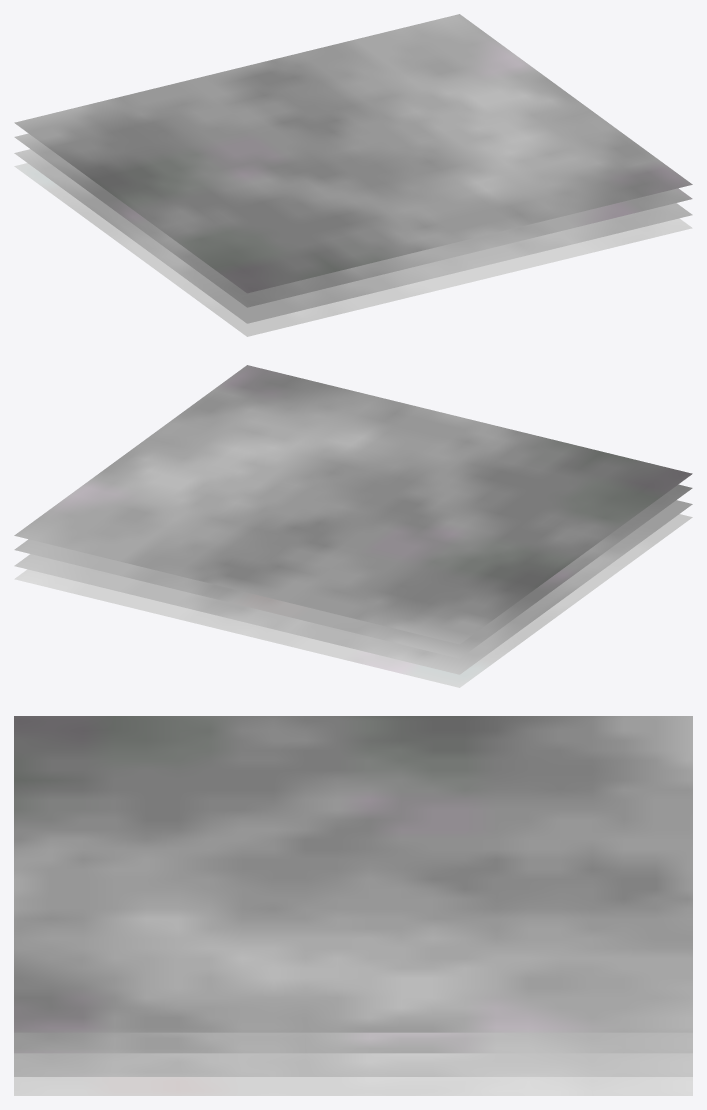
File: SWORDLIGHT20_MAINCAVERNCLOUDS16.fbx
3 views of the same model, one above another, from view 1: azimuth 30°, elevation 25°; view 2: azimuth 150°, elevation 25°; view 3: azimuth 270°, elevation 25° (orthographic). The views are drawn at different scales.
Parts seen in each view (by area): view 1: SWORDLIGHT20_MAINCAVERNCLOUDS16; view 2: SWORDLIGHT20_MAINCAVERNCLOUDS16; view 3: SWORDLIGHT20_MAINCAVERNCLOUDS16.
Boxes of the visible parts, x1,y1,x2,y2 form: SWORDLIGHT20_MAINCAVERNCLOUDS16: [14, 14, 692, 336]; SWORDLIGHT20_MAINCAVERNCLOUDS16: [14, 365, 692, 687]; SWORDLIGHT20_MAINCAVERNCLOUDS16: [14, 716, 692, 1095].
Size of the model in its own units: 161490 by 15056 by 146334.
Materials: 4 (4 with a texture image).
